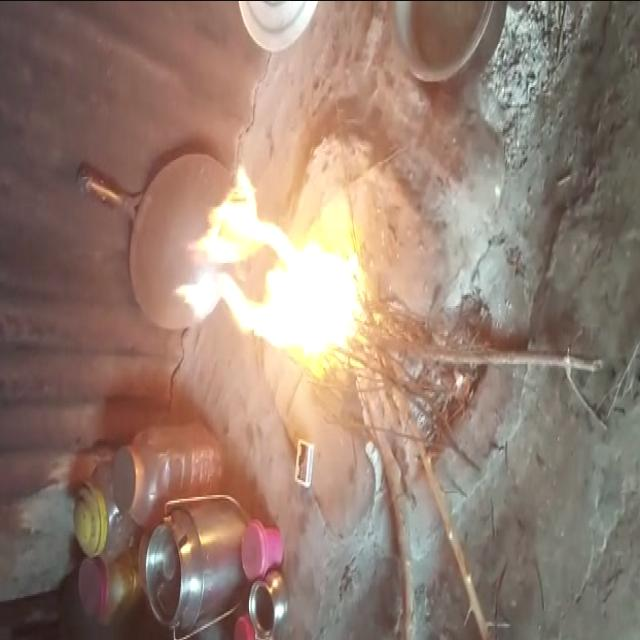firerotation: (167, 167, 367, 389)
